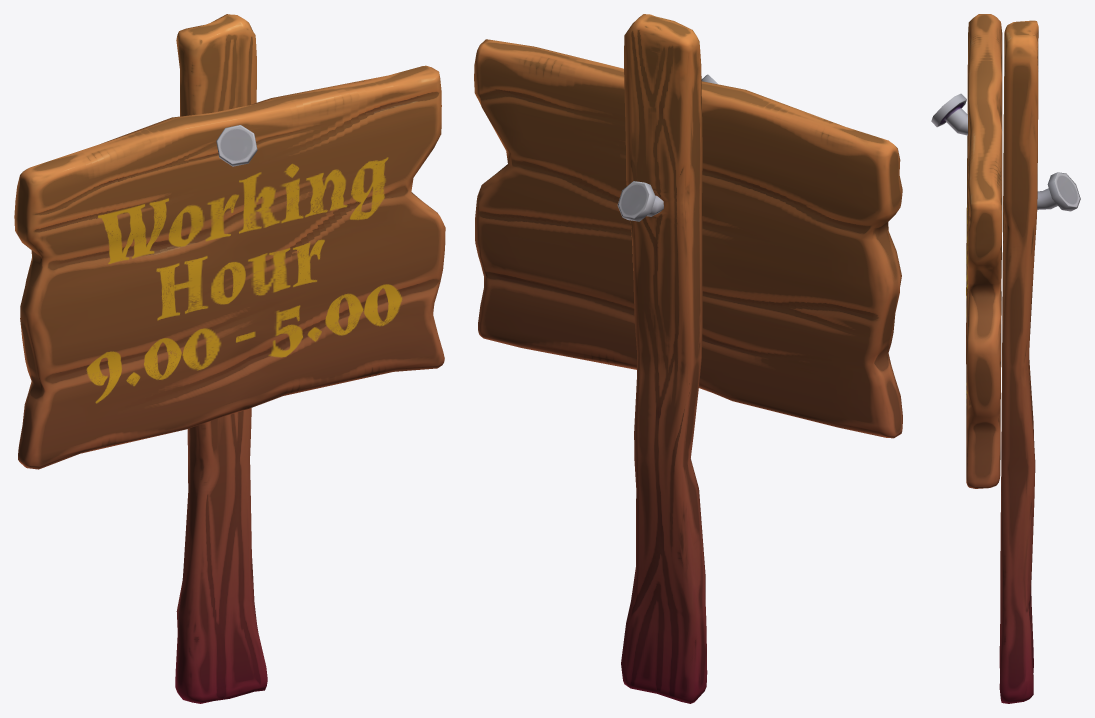
3 renders of one model, left to right at view 1: azimuth 30°, elevation 25°; view 2: azimuth 150°, elevation 25°; view 3: azimuth 270°, elevation 25°, orthographic. The views are drawn at different scales.
Visible parts, largest first — view 1: Sign_5, Pole_4, Nail01_2; view 2: Sign_5, Pole_4, Nail02_3; view 3: Pole_4, Sign_5, Nail02_3, Nail01_2.
Part boxes in pixels (bbox=[...]): Sign_5: bbox=[14, 65, 445, 469]; Pole_4: bbox=[175, 14, 267, 703]; Nail01_2: bbox=[216, 125, 257, 166]; Sign_5: bbox=[474, 39, 902, 438]; Pole_4: bbox=[621, 14, 707, 703]; Nail02_3: bbox=[617, 181, 663, 221]; Pole_4: bbox=[999, 20, 1038, 703]; Sign_5: bbox=[966, 14, 1002, 488]; Nail02_3: bbox=[1037, 172, 1080, 211]; Nail01_2: bbox=[931, 93, 967, 135].
Size of the model in its own units: 38.93 by 59.93 by 12.32.
3 materials, 3 textured.
